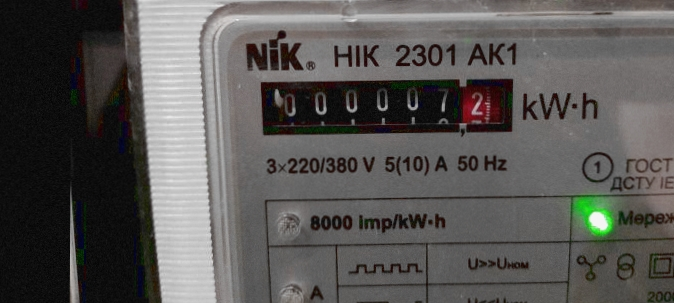0: (342, 87, 360, 114), (312, 89, 329, 117), (404, 84, 420, 113), (281, 91, 298, 118), (374, 85, 389, 112)
2: (469, 89, 485, 118)
7: (434, 86, 450, 115)
screen: (252, 69, 525, 142)
